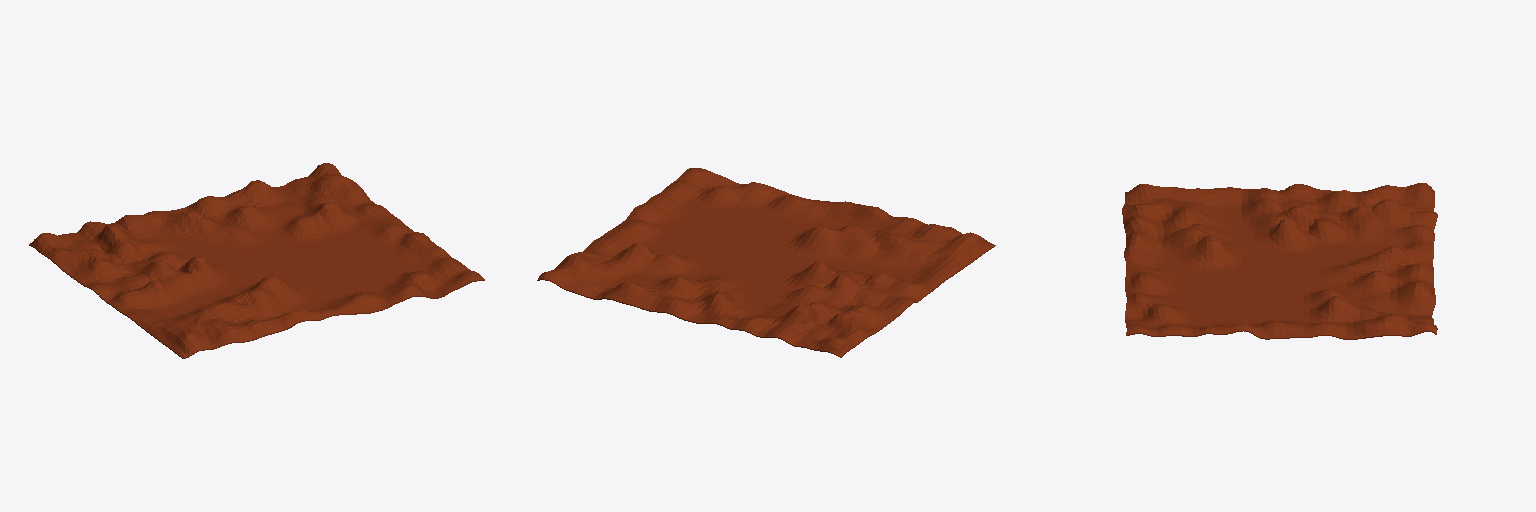
The model's file is Level1.obj.
The picture shows the model from 3 angles: view 1: azimuth 30°, elevation 25°; view 2: azimuth 150°, elevation 25°; view 3: azimuth 270°, elevation 25°; orthographic projection.
Parts seen in each view (by area): view 1: pCube1; view 2: pCube1; view 3: pCube1.
Boxes of the visible parts, box(x1,y1,x2,y2) form: pCube1: box(29, 163, 484, 358); pCube1: box(537, 168, 995, 357); pCube1: box(1122, 183, 1437, 339).
Bounding box in the file's own units: 325 × 24.28 × 289.